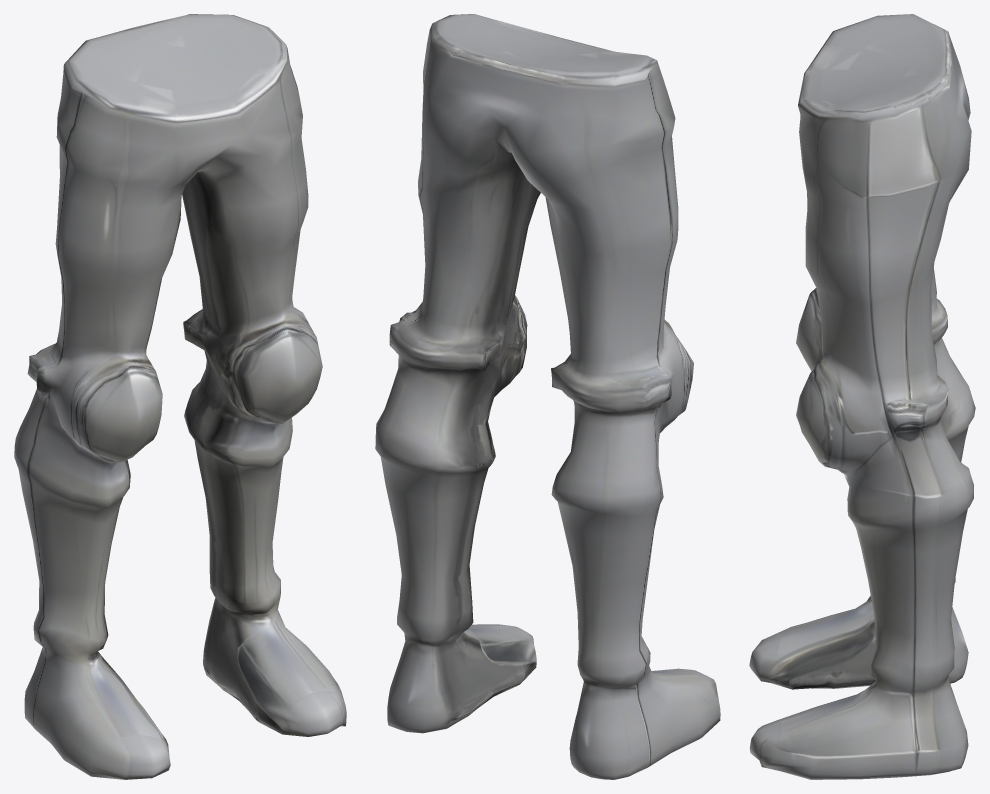
File: legs-metal-01-steel_backup.glb
The picture shows the model from 3 angles, left to right: view 1: azimuth 30°, elevation 25°; view 2: azimuth 150°, elevation 25°; view 3: azimuth 270°, elevation 25°; orthographic projection. The views are drawn at different scales.
Size of the model in its own units: 0.8389 by 2 by 0.6168.
1 material, 1 textured.
